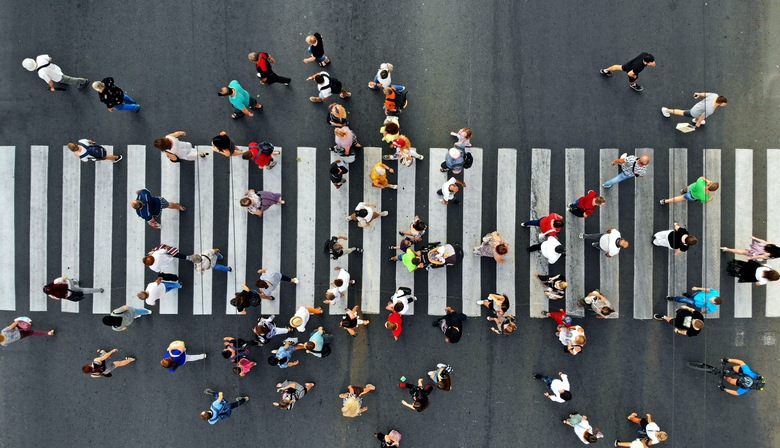person: (660, 87, 731, 132), (17, 52, 90, 94), (596, 52, 664, 94), (213, 76, 264, 125), (129, 187, 187, 229), (658, 172, 722, 210), (716, 356, 769, 399), (154, 128, 211, 167), (79, 346, 140, 382), (37, 274, 109, 304), (600, 152, 656, 190), (198, 388, 252, 425), (333, 380, 380, 422), (91, 77, 143, 114), (669, 282, 729, 314), (652, 306, 710, 339), (156, 340, 213, 373), (66, 137, 126, 168), (1, 317, 59, 349), (238, 182, 288, 219), (247, 50, 295, 88), (301, 69, 354, 103), (622, 409, 672, 445), (722, 261, 779, 292), (534, 364, 575, 405), (397, 376, 437, 418), (720, 235, 780, 263), (579, 227, 633, 258), (519, 209, 575, 238), (651, 220, 698, 254), (250, 264, 301, 295), (100, 305, 154, 334), (296, 29, 334, 69), (471, 228, 511, 266), (346, 198, 391, 231), (432, 303, 469, 343), (141, 245, 184, 279), (242, 141, 289, 172), (567, 190, 609, 224), (270, 381, 317, 411), (138, 278, 182, 310), (383, 136, 427, 168), (579, 286, 617, 322), (564, 411, 604, 445), (554, 322, 591, 358), (537, 269, 576, 303), (525, 235, 568, 265), (435, 146, 476, 177), (336, 306, 375, 338), (269, 338, 305, 372), (328, 126, 364, 160), (229, 289, 275, 315), (185, 246, 229, 273), (435, 174, 468, 209), (326, 235, 365, 263), (250, 317, 293, 342), (302, 330, 339, 359), (398, 214, 435, 242), (482, 311, 520, 338), (428, 240, 461, 271), (288, 303, 323, 332), (425, 360, 454, 395), (370, 162, 401, 194), (326, 98, 355, 132), (208, 131, 244, 158), (382, 84, 411, 116), (381, 309, 408, 343), (365, 61, 396, 90), (476, 286, 507, 315), (327, 266, 360, 292), (218, 337, 258, 358), (390, 286, 419, 314), (444, 125, 479, 148), (543, 306, 579, 327), (376, 117, 403, 143), (391, 253, 426, 273), (233, 357, 262, 379), (375, 430, 408, 448), (333, 158, 351, 189), (387, 237, 424, 252), (319, 287, 345, 308)
